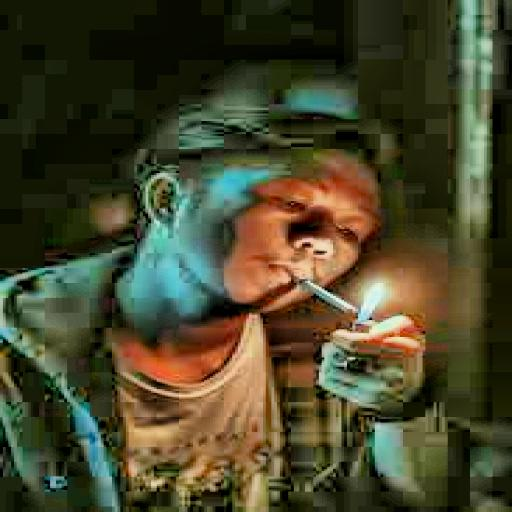fire: (342, 278, 394, 320)
